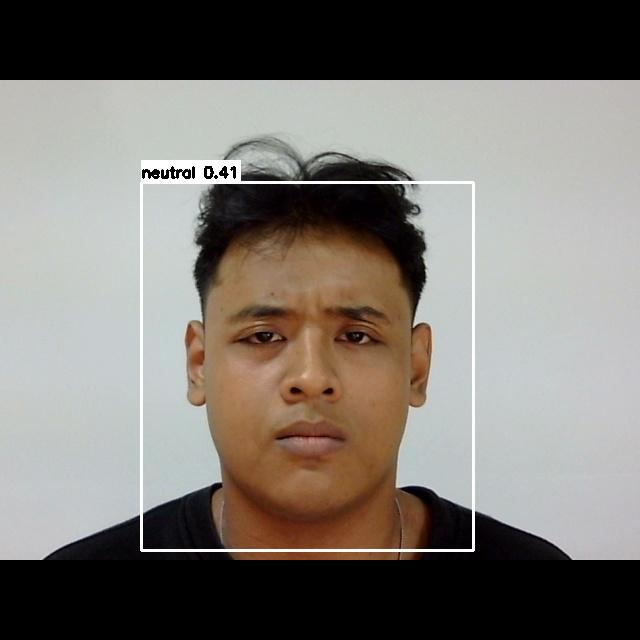Angry: (199, 280, 426, 479)
